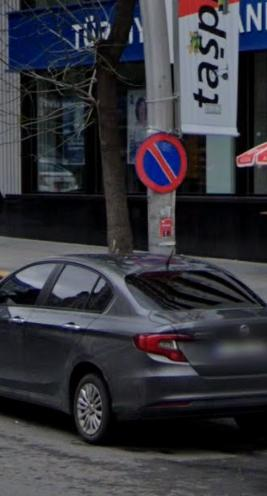nopark: (138, 134, 186, 194)
